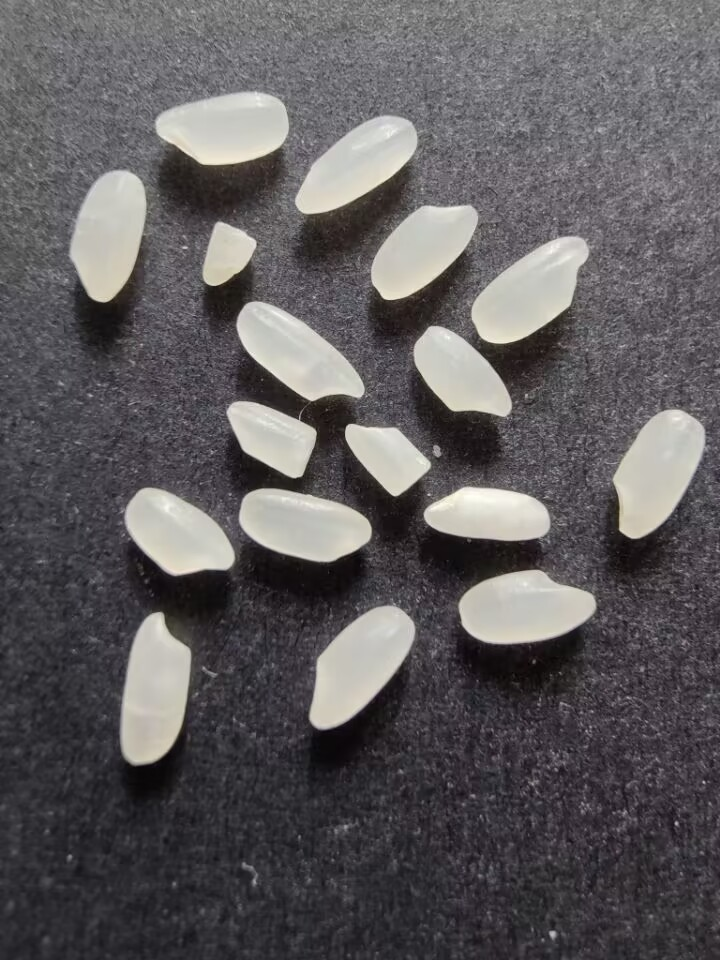broken: (223, 396, 320, 483), (340, 418, 435, 499), (194, 217, 261, 291)
rice: (302, 604, 419, 730), (233, 297, 369, 405), (471, 233, 593, 345), (611, 406, 711, 541), (292, 113, 419, 216), (116, 610, 194, 772), (234, 486, 379, 568), (366, 201, 482, 301), (458, 567, 600, 646), (66, 168, 146, 306), (147, 90, 289, 167), (124, 486, 238, 579), (414, 324, 518, 424), (420, 484, 553, 544)
